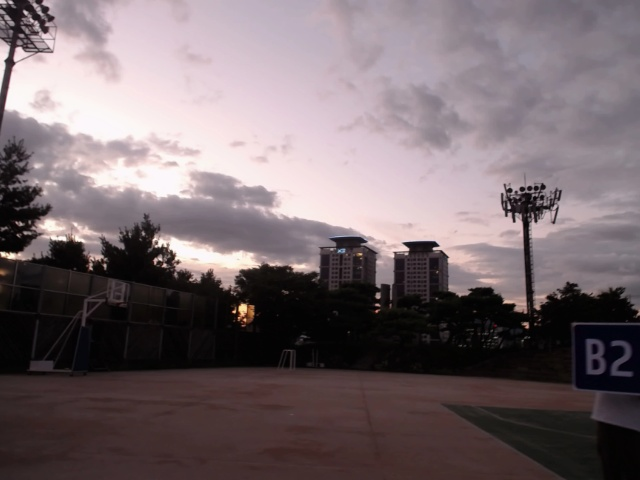delivery_b2: (573, 322, 639, 394)
